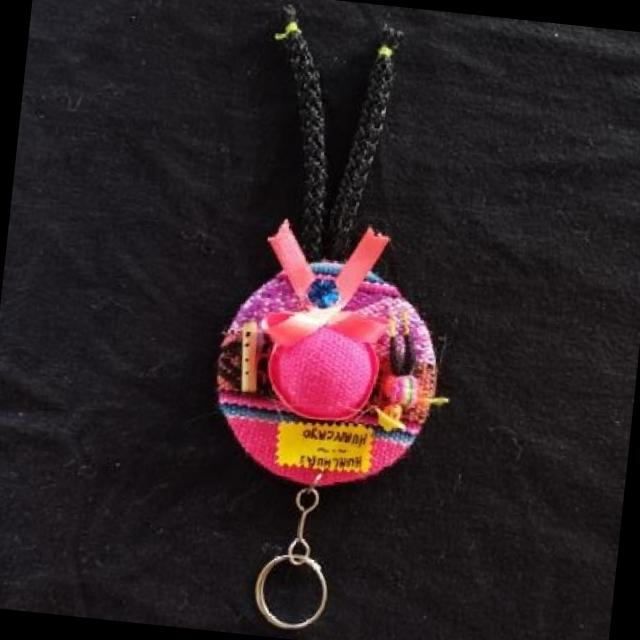Llavero: (204, 212, 458, 500)
